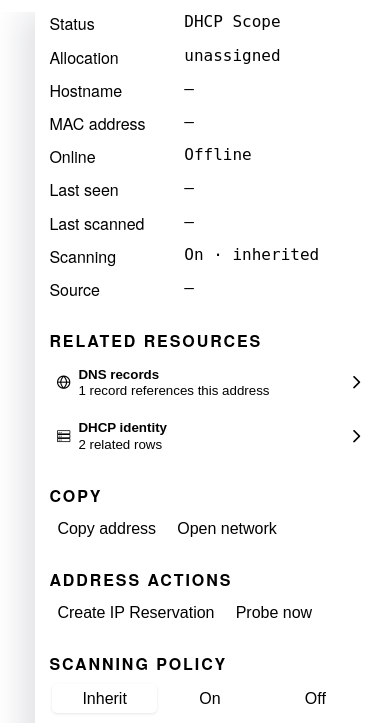
Test case: workspace address details panel › distinguishes a completed probe with no response from a successful response
(page scrolled)
Click the button "Probe now" at (274, 613), box 228,598 -> 320,628
(page scrolled)
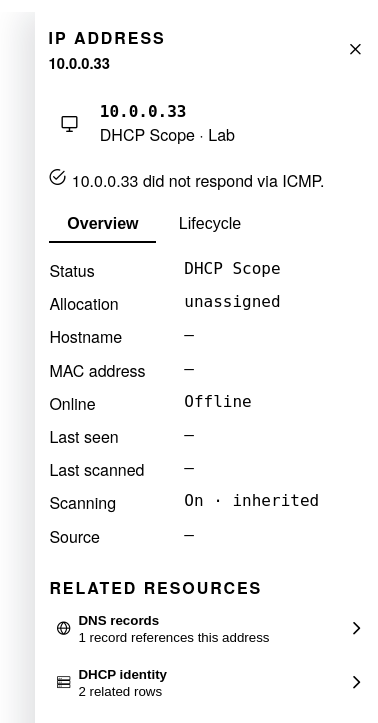
Check: the message with class "warning" shows "did not respond via ICMP", box 72,169 -> 325,192
